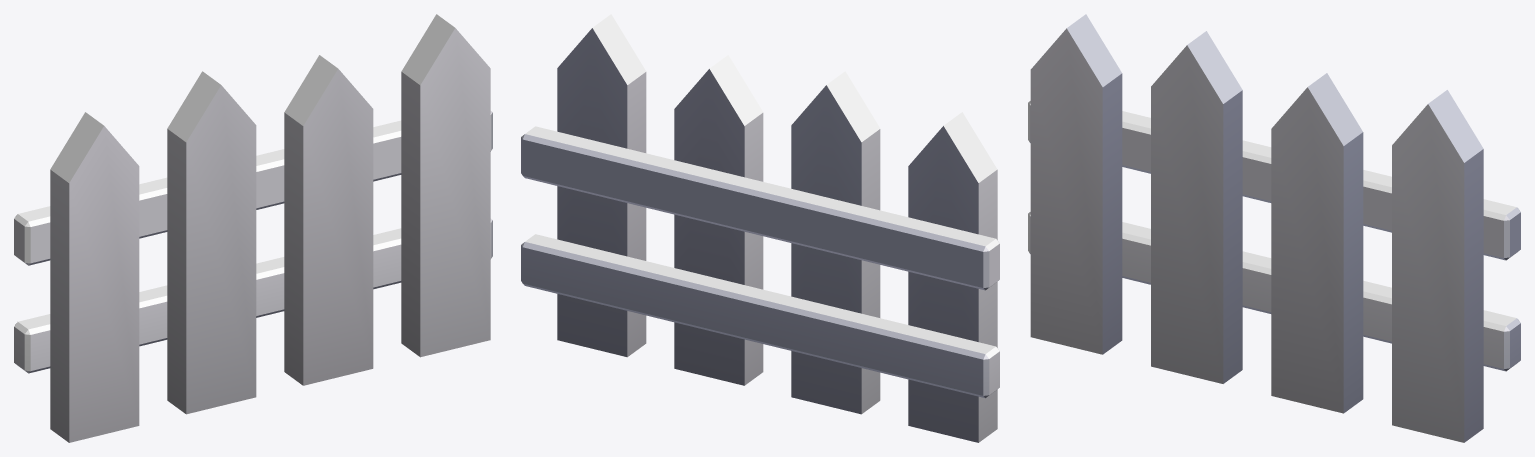
The model's file is fence_x.glb.
3 renders of one model, left to right at view 1: azimuth 30°, elevation 25°; view 2: azimuth 150°, elevation 25°; view 3: azimuth 330°, elevation 25°, orthographic. The views are drawn at different scales.
Visible parts, largest first — view 1: fence_x; view 2: fence_x; view 3: fence_x.
Boxes of the visible parts, x1,y1,x2,y2 form: fence_x: [14, 14, 492, 442]; fence_x: [521, 14, 999, 442]; fence_x: [1028, 14, 1520, 442].
Bounding box in the file's own units: 1 × 0.707 × 0.125.
Materials: 2 (2 with a texture image).
